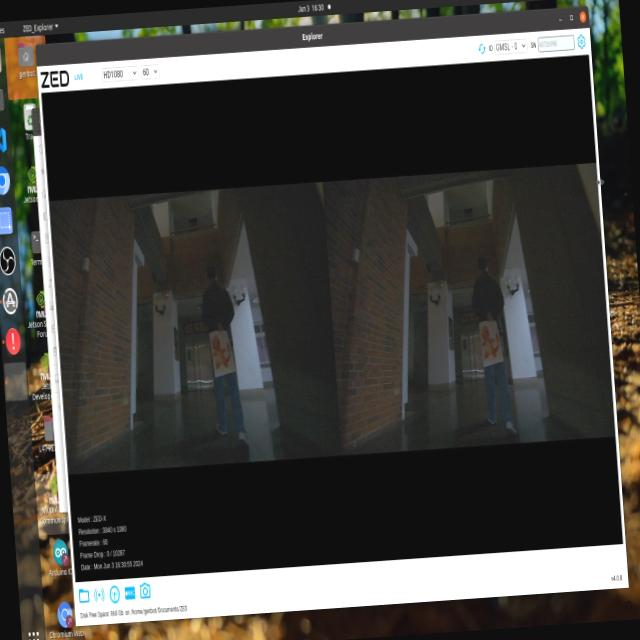red: (203, 322, 245, 376), (480, 317, 500, 364)
